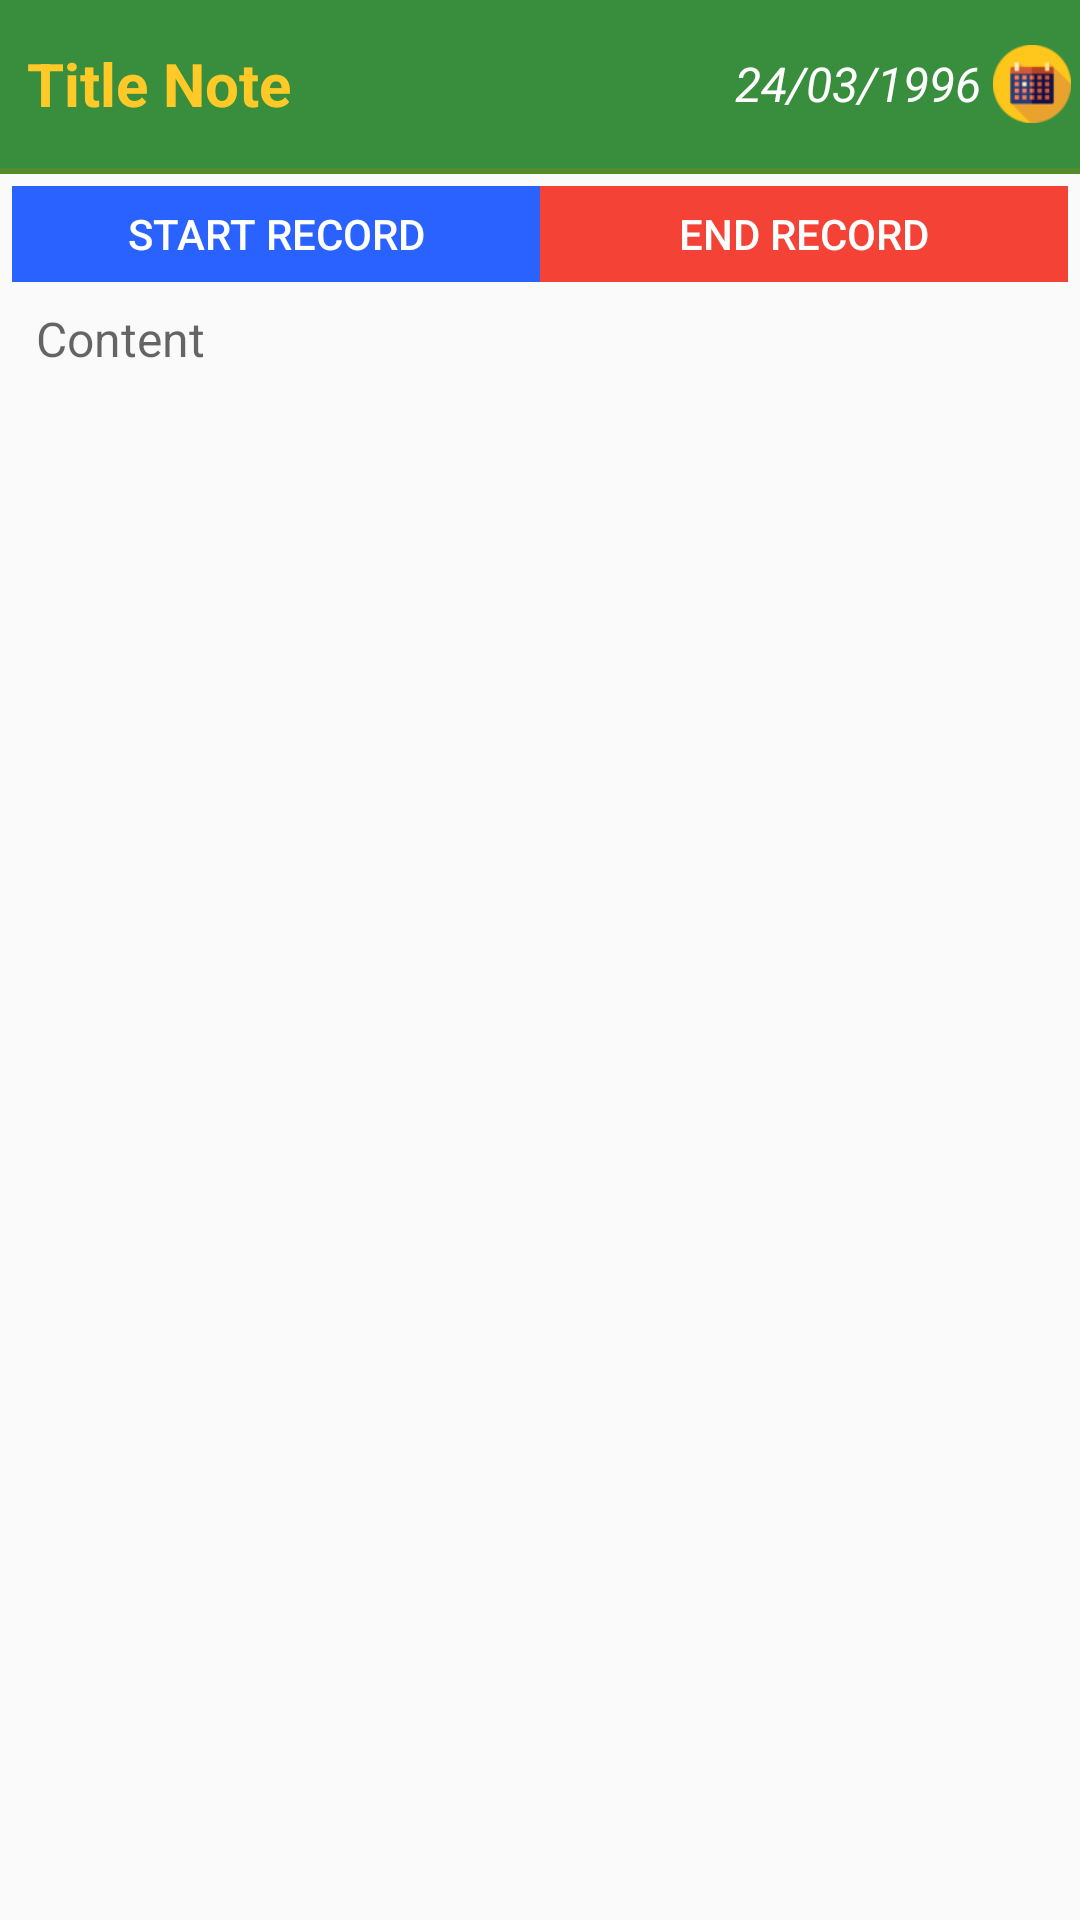

Locate icon controls on the screen. Image size 1080×1920, boxes as (x1, y1, x2, y2).
datetimepicker: (993, 45, 1071, 123)
